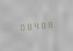eight: (25, 20, 31, 31), (39, 19, 45, 30), (46, 19, 52, 29)
four: (32, 20, 38, 30)
zero: (18, 21, 24, 32)
